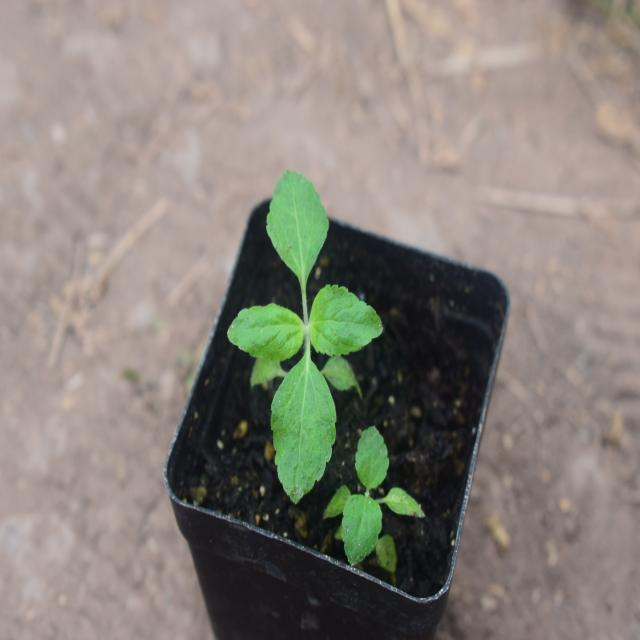billygoat_weed: (235, 157, 371, 486)
